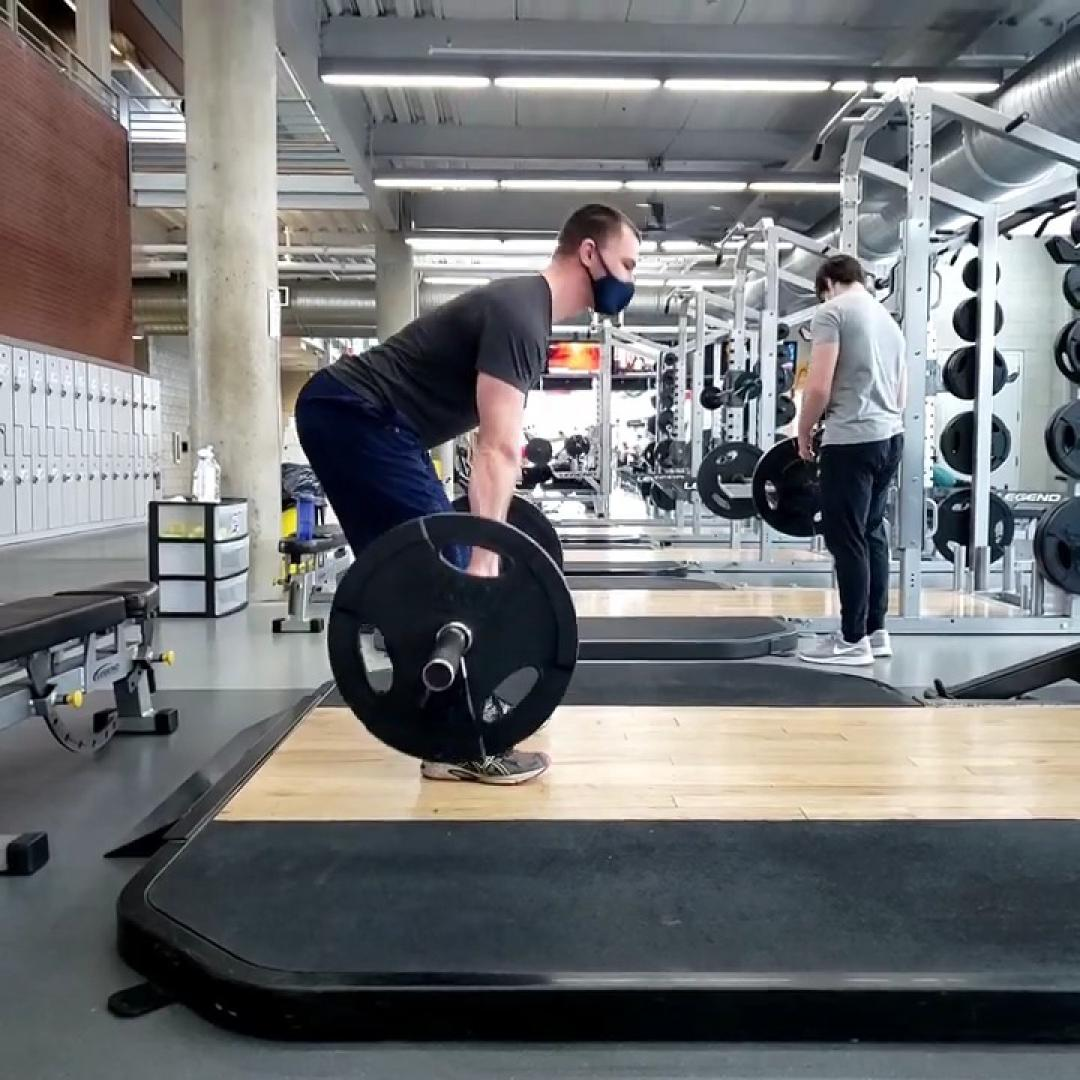Bar: (422, 659, 454, 691)
Barbell: (327, 511, 577, 765)
